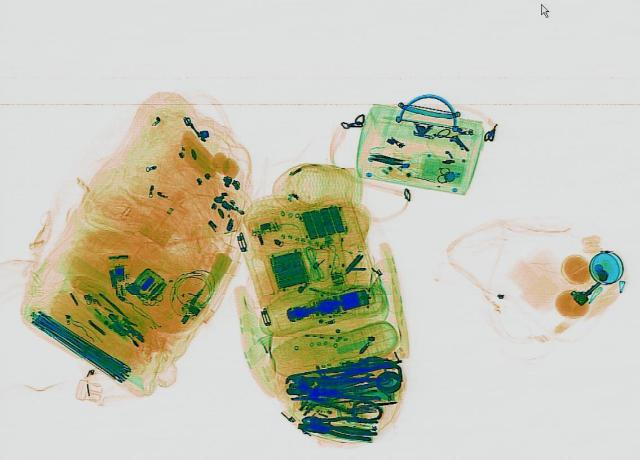Pliers: (284, 371, 386, 399), (297, 406, 378, 441)
